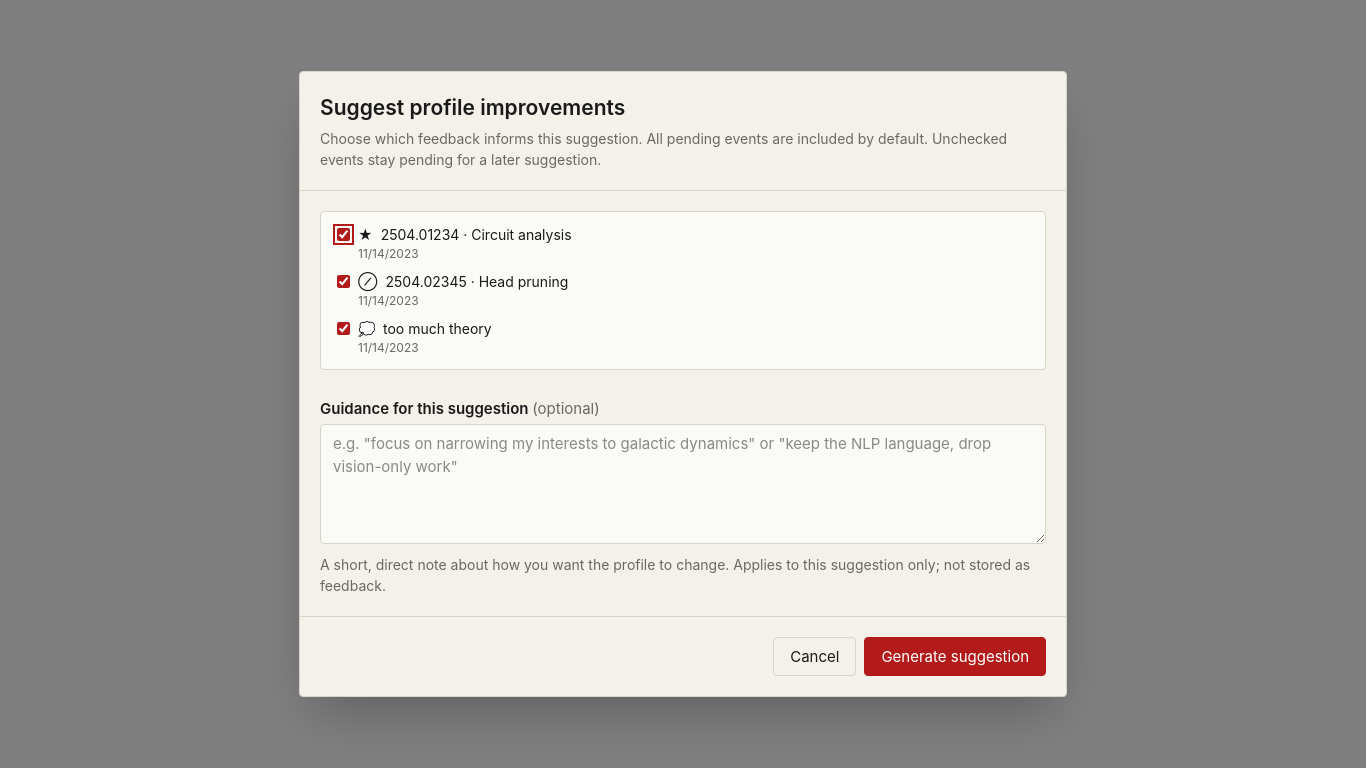
Test case: SuggestDialog — loading and result states › renders the noChangeReason view when the API returns no changes
Click the button "Generate suggestion" at {"x": 955, "y": 656}, box top-left (864, 637), bottom-right (1046, 676)
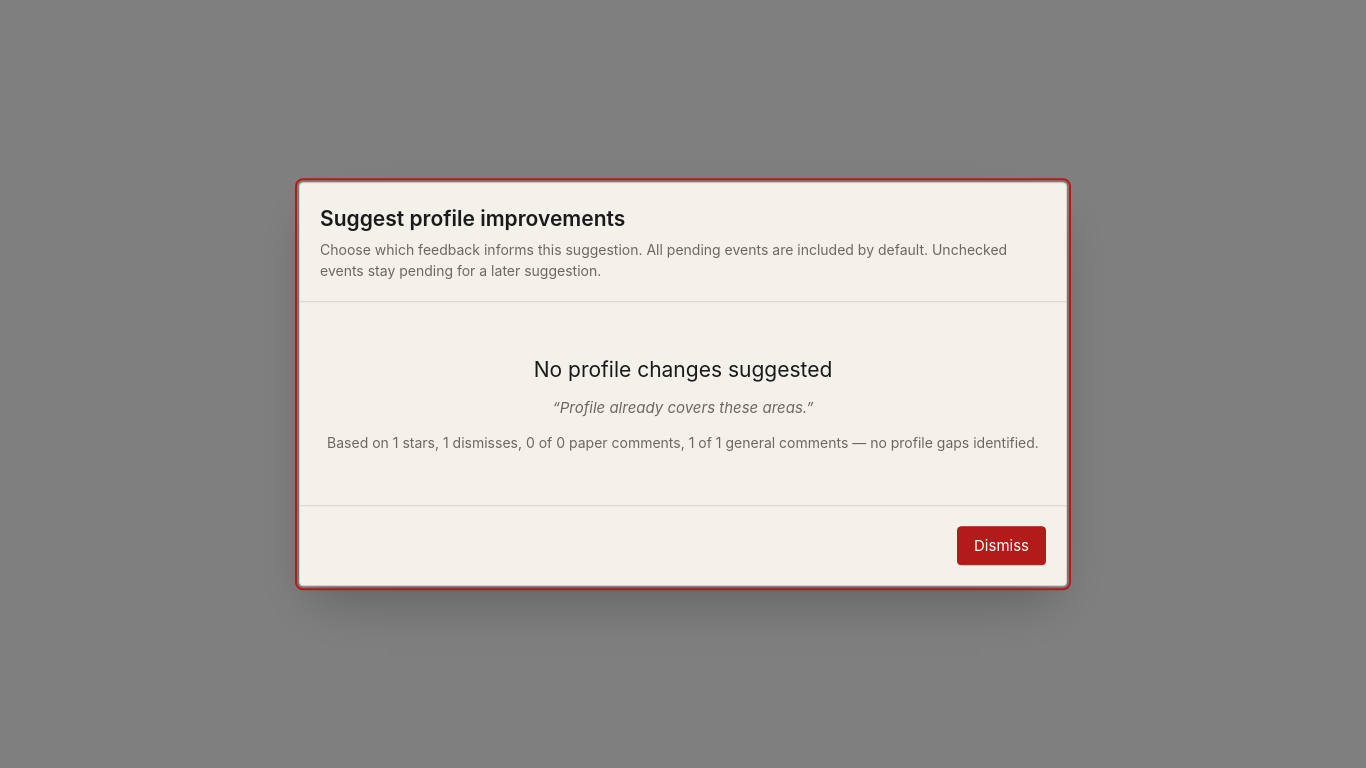
Expected: the text "No profile changes suggested" is shown, top-left (534, 357), bottom-right (832, 382)
Expected: the text "“Profile already covers these areas.”" is shown, top-left (552, 397), bottom-right (814, 420)
